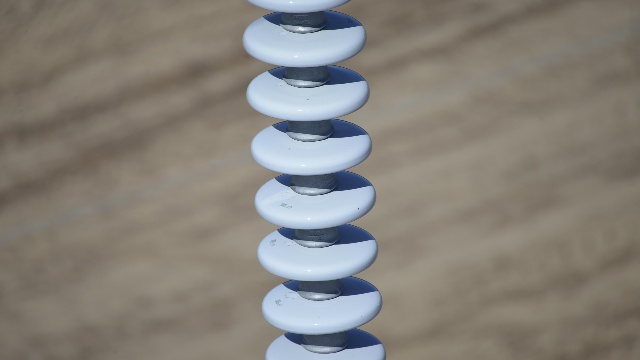insulator_unspecified: (243, 0, 387, 359)
pollution_flashover_local: (257, 186, 297, 207)
